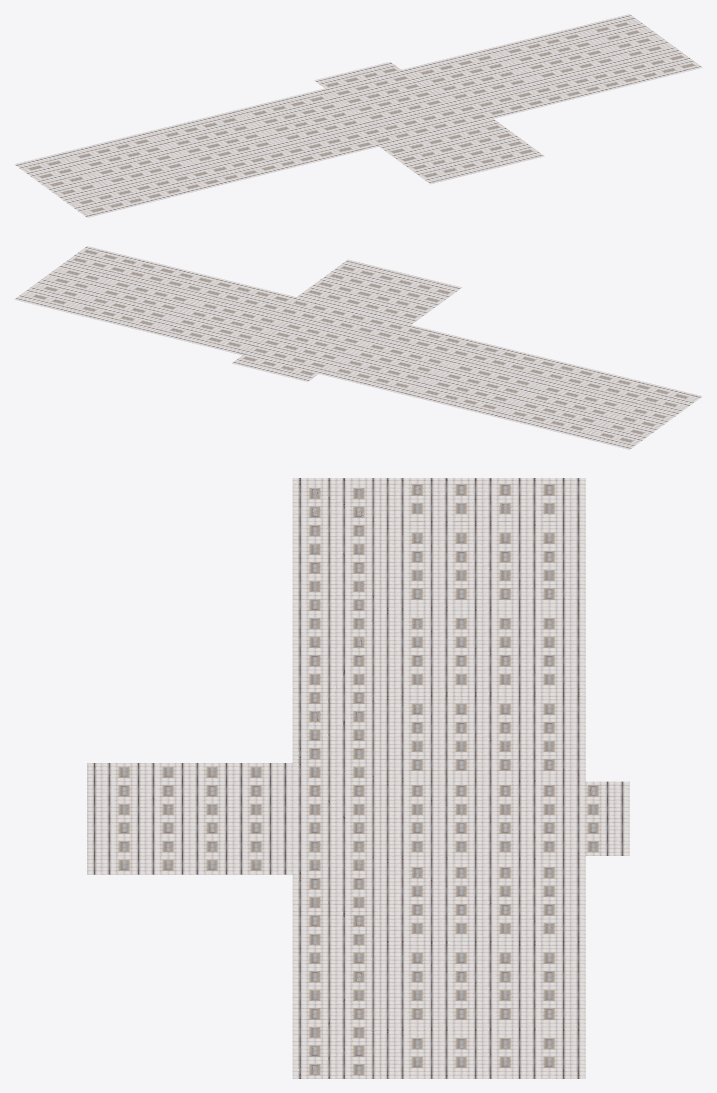
The model's file is a_sccelling02.glb.
3 views of the same model, one above another, from view 1: azimuth 30°, elevation 25°; view 2: azimuth 150°, elevation 25°; view 3: azimuth 270°, elevation 25° (orthographic). The views are drawn at different scales.
Visible parts, largest first — view 1: a_sccelling02; view 2: a_sccelling02; view 3: a_sccelling02.
Part boxes in pixels (x1,y1,x2,y2): a_sccelling02: [14, 14, 702, 217]; a_sccelling02: [14, 246, 702, 449]; a_sccelling02: [87, 478, 629, 1078].
Size of the model in its own units: 97 by 2.38e-07 by 37.
1 material, 1 textured.
